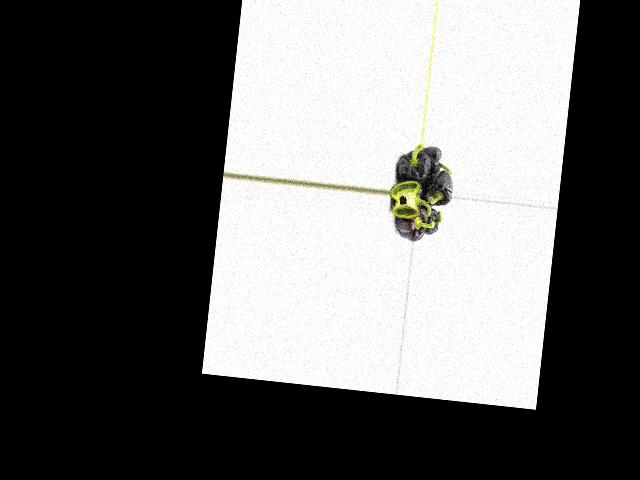bell_pepper: (395, 199, 429, 241)
